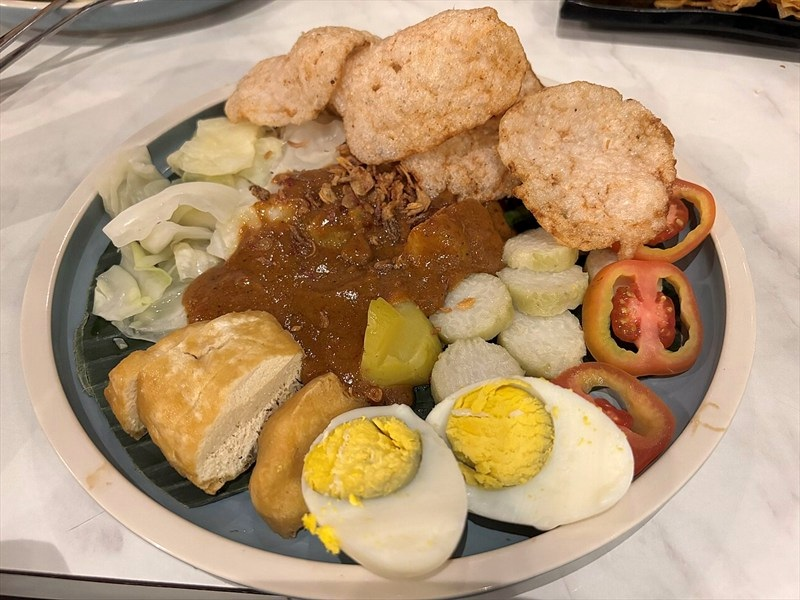Gado-Gado: (92, 89, 718, 511)
